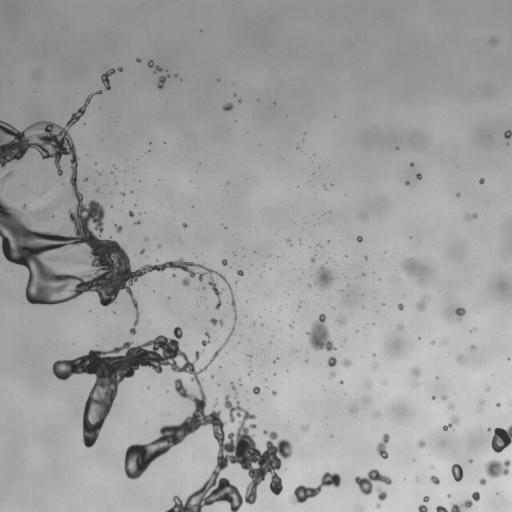droplet: (306, 314, 335, 350), (355, 469, 391, 494), (491, 425, 511, 452), (314, 265, 334, 290), (485, 459, 511, 478), (402, 257, 417, 274), (451, 464, 463, 481), (418, 496, 429, 511), (376, 487, 387, 501), (416, 299, 427, 310), (455, 307, 465, 317), (327, 356, 336, 366), (411, 367, 420, 377), (342, 358, 351, 367), (430, 475, 439, 484), (223, 103, 233, 111), (336, 316, 346, 324), (36, 211, 46, 218), (489, 38, 497, 45), (504, 130, 511, 138), (253, 386, 260, 394), (417, 440, 425, 447), (115, 225, 122, 232), (457, 355, 464, 362), (301, 424, 308, 431), (479, 478, 486, 485), (237, 269, 243, 276), (397, 303, 403, 310), (128, 211, 134, 217), (356, 236, 362, 242), (221, 259, 227, 265), (397, 324, 403, 330), (416, 173, 421, 179), (330, 372, 335, 378), (447, 404, 453, 409), (231, 383, 235, 390), (479, 178, 484, 183), (310, 257, 315, 262), (470, 344, 475, 349), (134, 220, 140, 224), (182, 223, 187, 227), (350, 409, 355, 413), (376, 503, 380, 508), (136, 58, 140, 62), (405, 181, 409, 185), (140, 249, 144, 253), (289, 324, 293, 328), (365, 382, 369, 386), (272, 391, 276, 395), (442, 396, 446, 400), (496, 402, 500, 406), (468, 459, 472, 463), (373, 364, 376, 369), (410, 162, 413, 166), (431, 340, 434, 344), (374, 411, 378, 414), (84, 178, 87, 181), (323, 185, 326, 188), (121, 192, 124, 195), (456, 193, 459, 196), (286, 239, 289, 242), (157, 244, 160, 247), (172, 274, 175, 277), (308, 284, 311, 287), (248, 354, 251, 357), (480, 400, 483, 403), (487, 428, 490, 431), (447, 494, 450, 497), (174, 74, 177, 76), (238, 100, 241, 102), (235, 281, 237, 284), (211, 375, 214, 377), (340, 381, 343, 383), (432, 396, 435, 398), (214, 403, 216, 406), (396, 147, 398, 149), (97, 189, 99, 191), (23, 205, 25, 207), (365, 256, 367, 258), (362, 273, 364, 275), (203, 287, 205, 289), (298, 305, 300, 307), (248, 372, 250, 374), (486, 388, 488, 390), (478, 410, 480, 412), (416, 478, 418, 480)
ligament: (0, 91, 289, 511), (289, 472, 341, 504), (436, 491, 479, 511), (101, 67, 122, 90), (376, 433, 389, 459), (443, 416, 459, 430), (157, 75, 169, 89), (148, 60, 161, 71), (202, 331, 210, 346), (210, 318, 223, 325), (1, 172, 10, 180), (465, 213, 477, 219), (357, 510, 361, 511)
